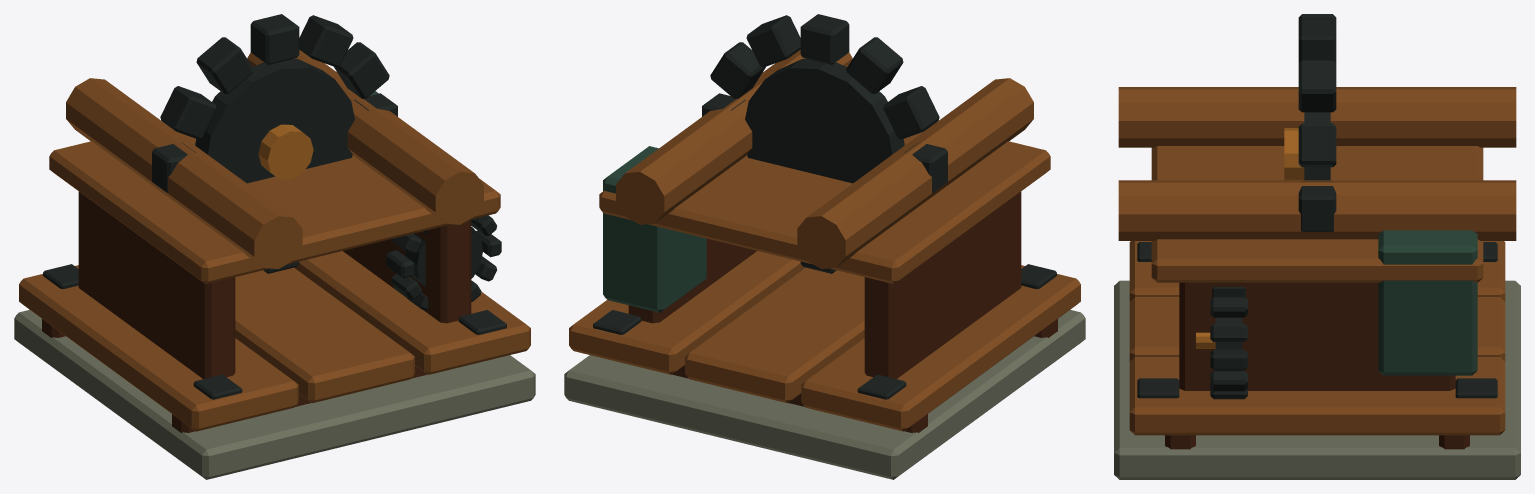
The model's file is sawmill.glb.
The picture shows the model from 3 angles, left to right: view 1: azimuth 30°, elevation 25°; view 2: azimuth 150°, elevation 25°; view 3: azimuth 270°, elevation 25°; orthographic projection. The views are drawn at different scales.
Parts seen in each view (by area): view 1: sawmill_body, Hub, Hub.001; view 2: sawmill_body, Hub; view 3: sawmill_body, Hub, Hub.001.
Part boxes in pixels (x1,y1,x2,y2): sawmill_body: (14,50,535,479); Hub: (152,14,397,273); Hub.001: (386,215,501,311); sawmill_body: (564,50,1085,479); Hub: (702,14,947,273); sawmill_body: (1114,87,1520,479); Hub: (1284,14,1336,231); Hub.001: (1196,287,1247,399).
Bounding box in the file's own units: 1.91 × 1.84 × 1.84.
